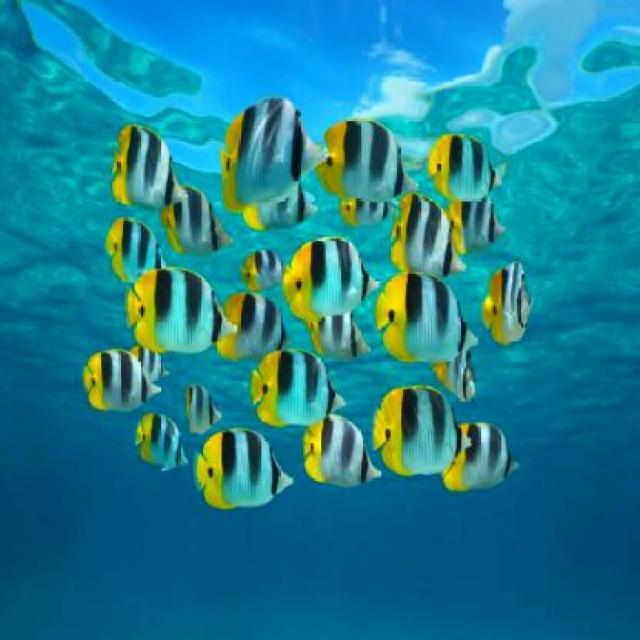ButterflyFish: (224, 98, 324, 206), (374, 388, 471, 488), (124, 269, 236, 353), (378, 273, 478, 360), (196, 430, 293, 511), (252, 348, 345, 429), (287, 237, 380, 314), (322, 119, 417, 194), (113, 125, 187, 207), (393, 195, 466, 274), (304, 416, 380, 491), (446, 421, 521, 489), (81, 352, 160, 412), (429, 136, 502, 200), (163, 184, 232, 250), (221, 293, 290, 357), (485, 260, 531, 346), (108, 221, 164, 277), (450, 194, 505, 251), (133, 413, 186, 472), (242, 192, 317, 228), (312, 315, 373, 357), (434, 345, 477, 398), (185, 384, 223, 438), (243, 249, 283, 289), (128, 344, 170, 380), (340, 197, 390, 224)
